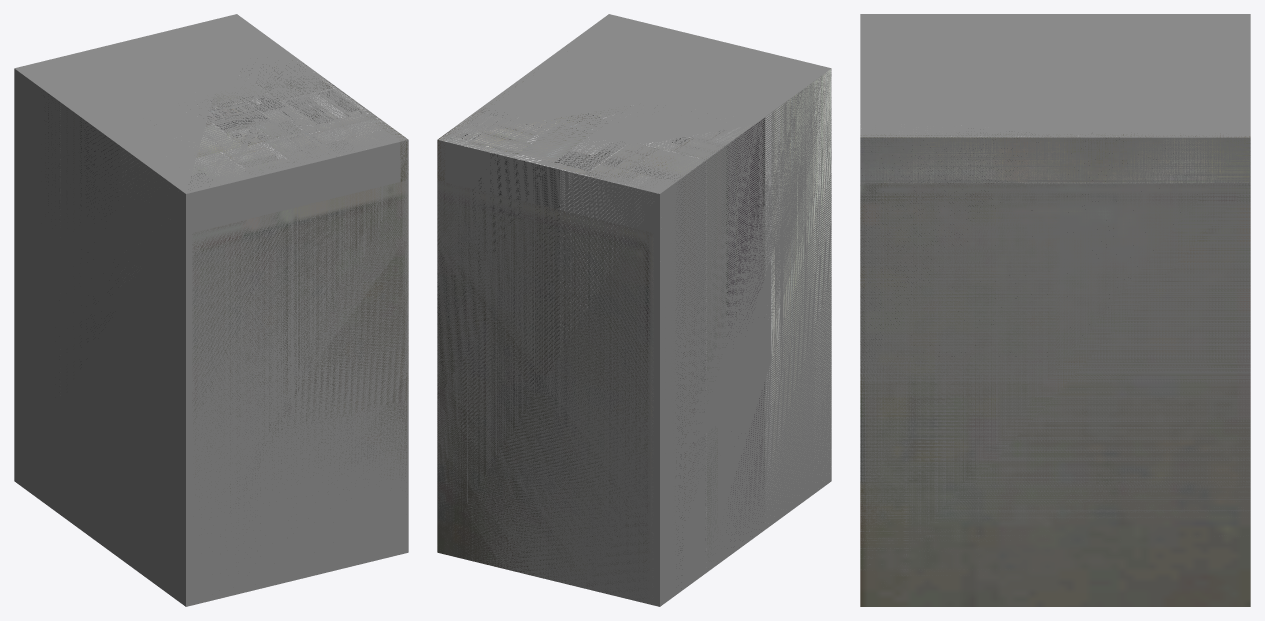
Rendered from counter_top_02.FBX.
3 renders of one model, left to right at view 1: azimuth 30°, elevation 25°; view 2: azimuth 150°, elevation 25°; view 3: azimuth 270°, elevation 25°, orthographic. The views are drawn at different scales.
Parts seen in each view (by area): view 1: bounds, counter_top_two100, colbox-1; view 2: bounds, counter_top_two100, colbox-1; view 3: bounds, counter_top_two100.
Boxes of the visible parts, <box> form: bounds: <box>14,14,408,606</box>; counter_top_two100: <box>192,106,408,536</box>; colbox-1: <box>45,64,392,395</box>; bounds: <box>437,14,831,606</box>; counter_top_two100: <box>437,81,653,599</box>; colbox-1: <box>437,69,831,550</box>; bounds: <box>860,14,1250,575</box>; counter_top_two100: <box>860,133,1250,606</box>.
Size of the model in its own units: 66.19 by 117 by 88.44.
